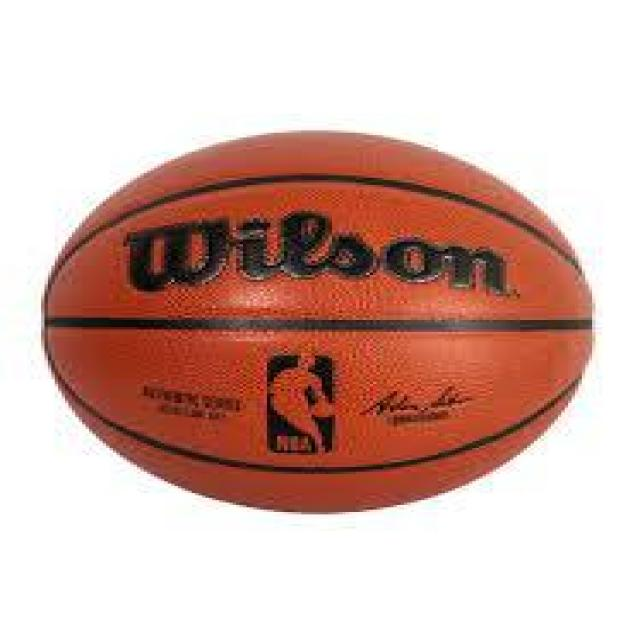ball: (40, 129, 598, 525)
